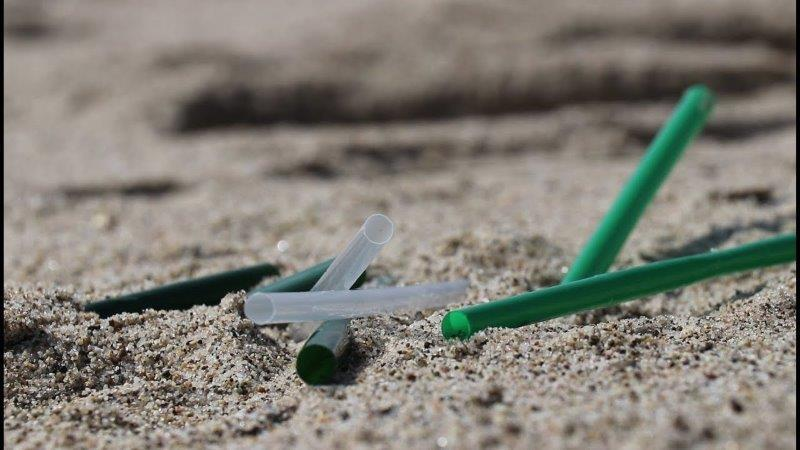plastic: (439, 230, 795, 341), (555, 85, 715, 289), (73, 259, 281, 316), (244, 281, 470, 323), (305, 210, 395, 295), (249, 247, 367, 301), (296, 316, 352, 383)
